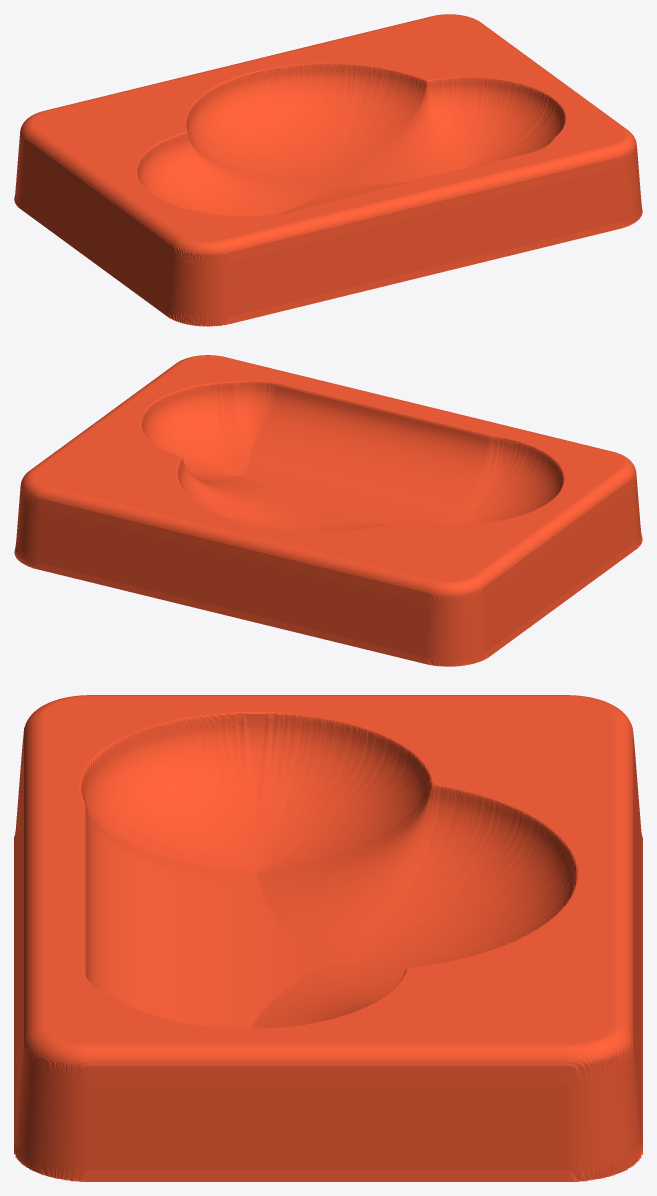
Rendered from mold.glb.
The picture shows the model from 3 angles, top to bottom: view 1: azimuth 30°, elevation 25°; view 2: azimuth 150°, elevation 25°; view 3: azimuth 270°, elevation 25°; orthographic projection. The views are drawn at different scales.
Parts seen in each view (by area): view 1: geometry_0; view 2: geometry_0; view 3: geometry_0.
Part boxes in pixels (<box>): geometry_0: <box>14,14,642,326</box>; geometry_0: <box>14,355,642,666</box>; geometry_0: <box>14,695,642,1181</box>.
Bounding box in the file's own units: 0.105 × 0.0165 × 0.075.
